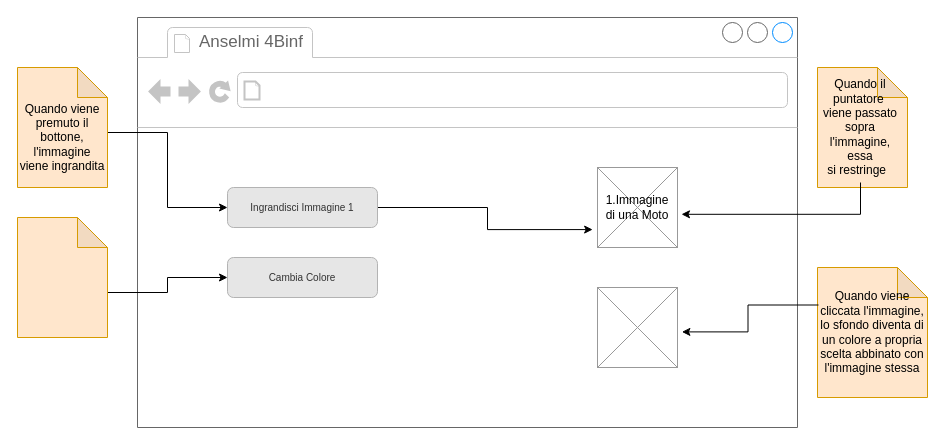
Image size: 945x445. Some labels were removed from this diagram. Each missing label, with the centre of its shape:
2.Immagine di una Moto: the point at 637,327
https://www.marconicloud.it: the point at 392,90
Quando viene cliccato il bottone lo sfondo cambia di un colore a propria scelta: the point at 62,277
